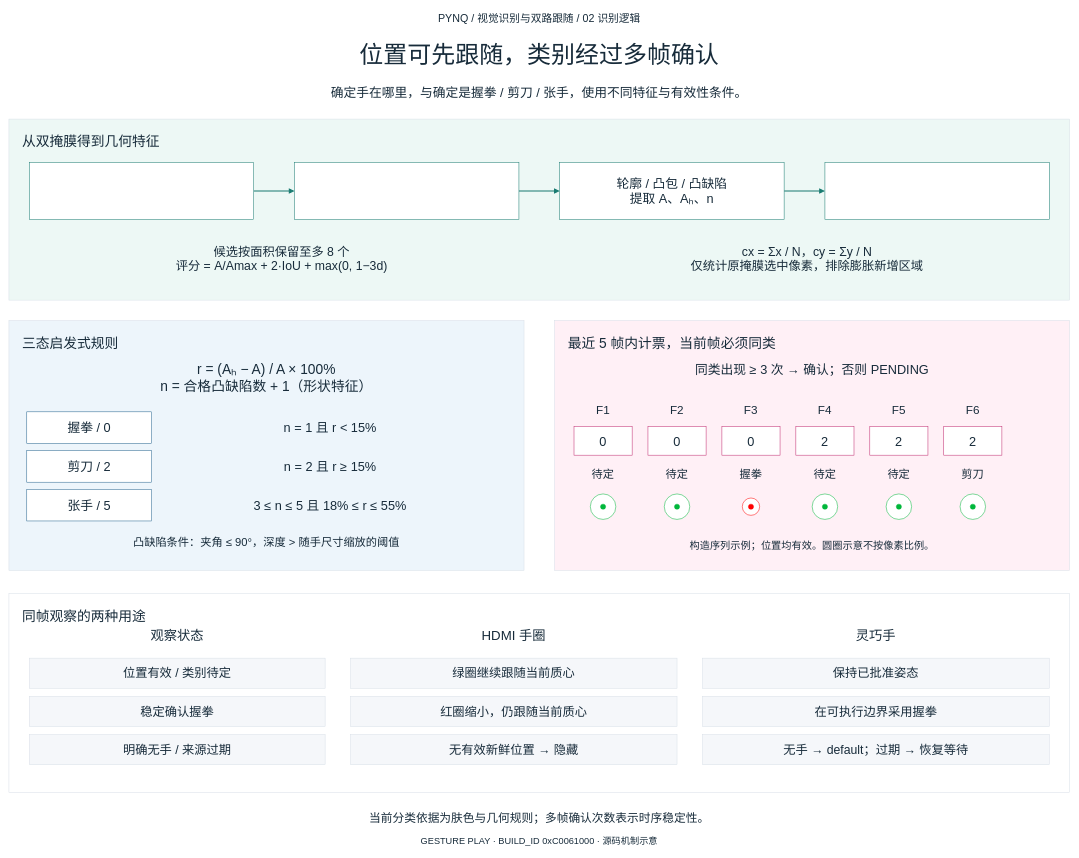
Some shapes in this 1079 by 858 pixel diagram are drawn without their labels. The centre of each missing label's shape, as x and y in pixels:
原掩膜 ∩ 选中轮廓 像素矩得到位置质心: (x=936, y=191)
滤波掩膜 → 外轮廓 候选面积 ≥ 2000 px²: (x=141, y=191)
选取当前目标 面积 + 重叠 + 距离连续性: (x=406, y=191)
